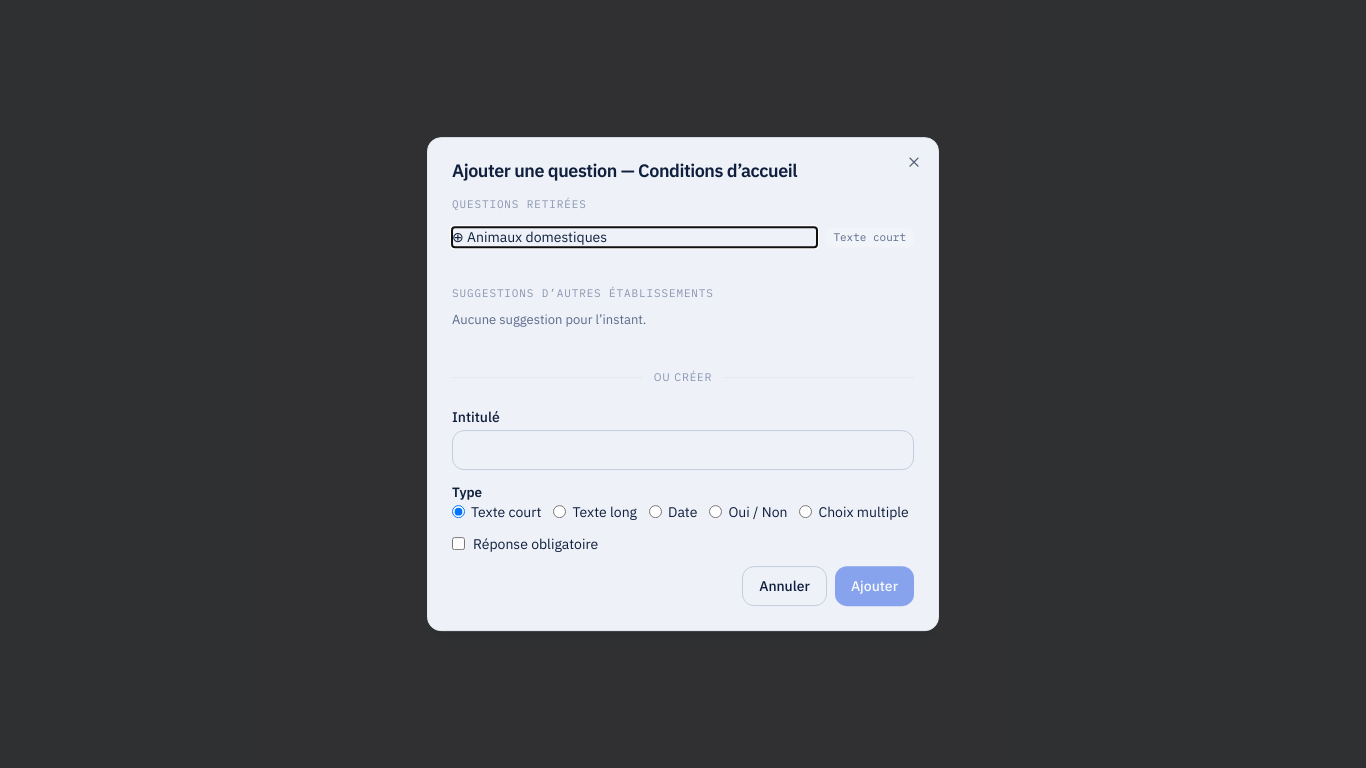
Test: AddQuestionDialog › renders the server's refusal code as a sentence
Type "Régime" into the field labelled "Intitulé" at (683, 450), box [452,430,914,470]
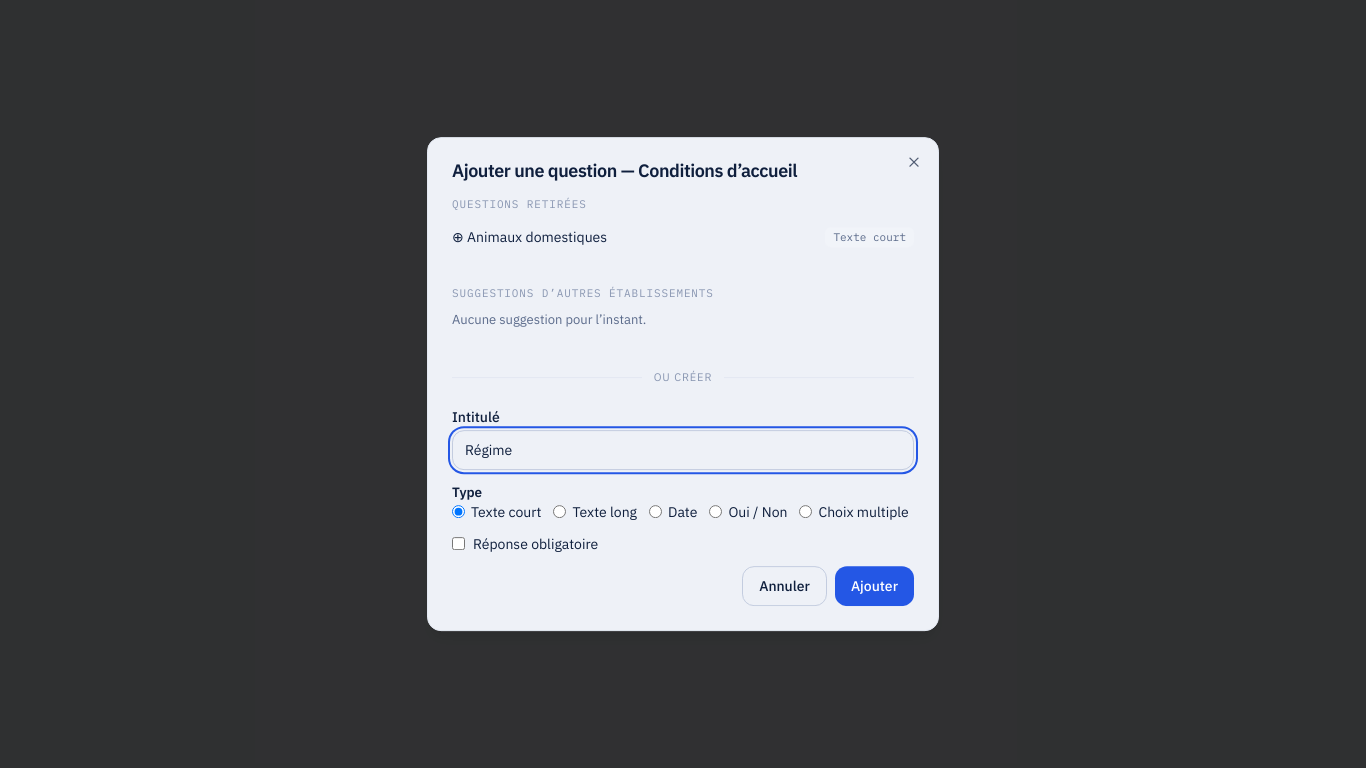
Click the button "Ajouter" at (874, 586), box [835,566,914,606]
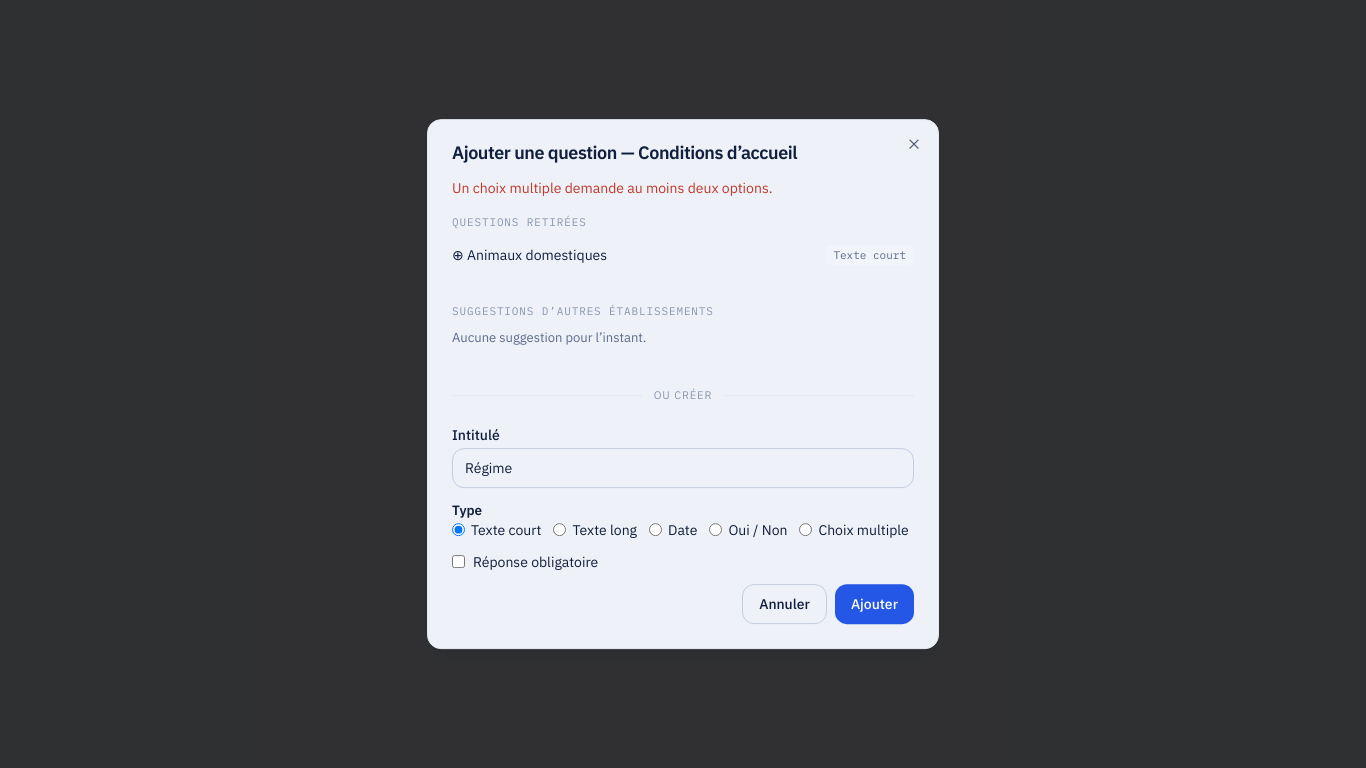
Check: the text "Un choix multiple demande au moins deux options." is shown, box [452,179,772,197]
